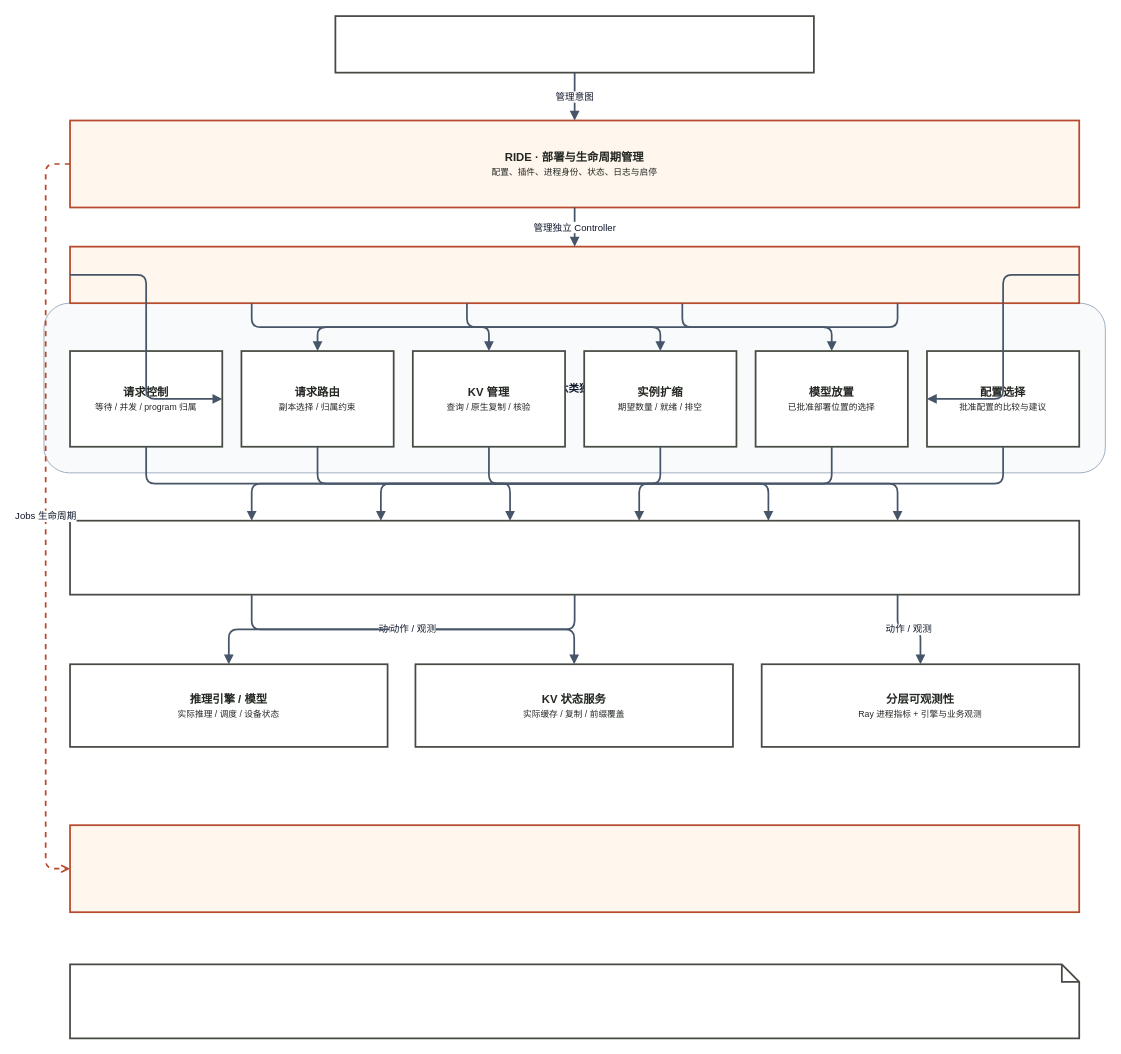
Some shapes in this 1121 by 1054 pixel diagram are drawn without their labels. Here are the shapes that lost their labels. From the top down, the centre of each, then its label:
At (x=574, y=44): "用户 / 应用目标 服务要求、配置与允许的控制范围".
At (x=574, y=274): "独立进程 · 独立状态 · 独立控制循环 Observe → Decide → Actuate → Verify".
At (x=574, y=557): "已有执行接口与观测接口 模型生命周期 / 请求与 program / KV / 引擎指标".
At (x=574, y=868): "Ray · 分布式执行底座 承载 Controller 与模型；资源调度、节点 / 任务状态与日志".
At (x=574, y=1001): "实现与验收范围 配置只建议；观测缺失不填零；软件通过不等于硬件或收益通过".
